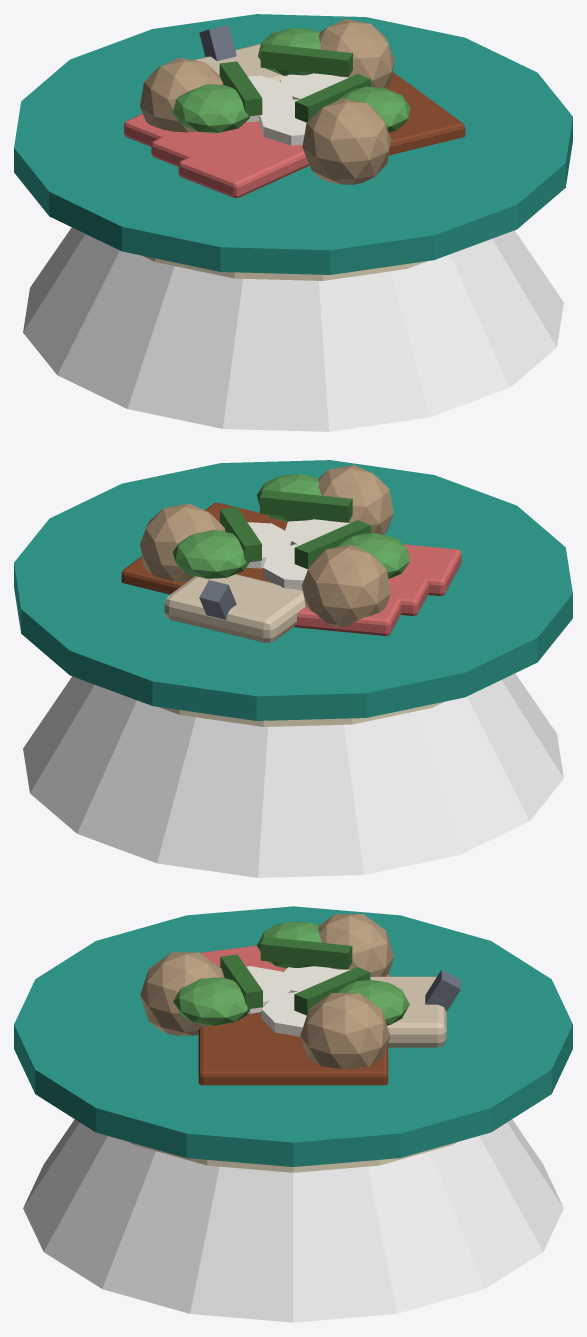
File: items.glb
3 views of the same model, one above another, from view 1: azimuth 30°, elevation 25°; view 2: azimuth 150°, elevation 25°; view 3: azimuth 270°, elevation 25° (orthographic).
Parts seen in each view (by area): view 1: BowlRim.001, Bowl.001, L2.008, L0.007, L1.008, L0.008, L1.010, L1.007, L0.006, L0.011, L2.010, L.003 (+10 smaller); view 2: BowlRim.001, Bowl.001, L.004, L1.008, L0.008, L2.008, L0.010, L2.011, L0.007, L2.007, L1.010, L.003 (+10 smaller); view 3: BowlRim.001, Bowl.001, L0.008, L0.006, L2.008, L.004, L1.008, L2.010, L1.006, L1.011, L.003, L0.010 (+9 smaller).
Boxes of the visible parts, x1,y1,x2,y2 form: BowlRim.001: (14,14,572,274); Bowl.001: (23,227,563,431); L2.008: (302,98,391,184); L0.007: (178,126,309,198); L1.008: (140,57,223,132); L0.008: (318,19,394,88); L1.010: (173,84,249,133); L1.007: (151,121,260,166); L0.006: (388,103,465,155); L0.011: (260,43,352,76); L2.010: (338,86,410,132); L.003: (142,255,427,280); BowlRim.001: (14,460,572,720); Bowl.001: (23,673,563,877); L.004: (164,574,305,642); L1.008: (302,544,390,627); L0.008: (140,503,225,581); L2.008: (318,465,393,535); L0.010: (173,530,249,579); L2.011: (260,490,352,522); L0.007: (403,544,461,595); L2.007: (294,597,401,635); L1.010: (336,533,409,578); L.003: (159,701,444,726); BowlRim.001: (14,906,572,1166); Bowl.001: (23,1119,563,1322); L0.008: (300,993,390,1068); L0.006: (198,1014,275,1085); L2.008: (140,952,224,1035); L.004: (370,976,446,1047); L1.008: (318,914,394,976); L2.010: (173,977,249,1025); L1.006: (257,1014,329,1085); L1.011: (260,937,352,969); L.003: (130,1142,456,1172); L0.010: (337,980,409,1025).
Bounding box in the file's own units: 0.62 × 0.31 × 0.62.
